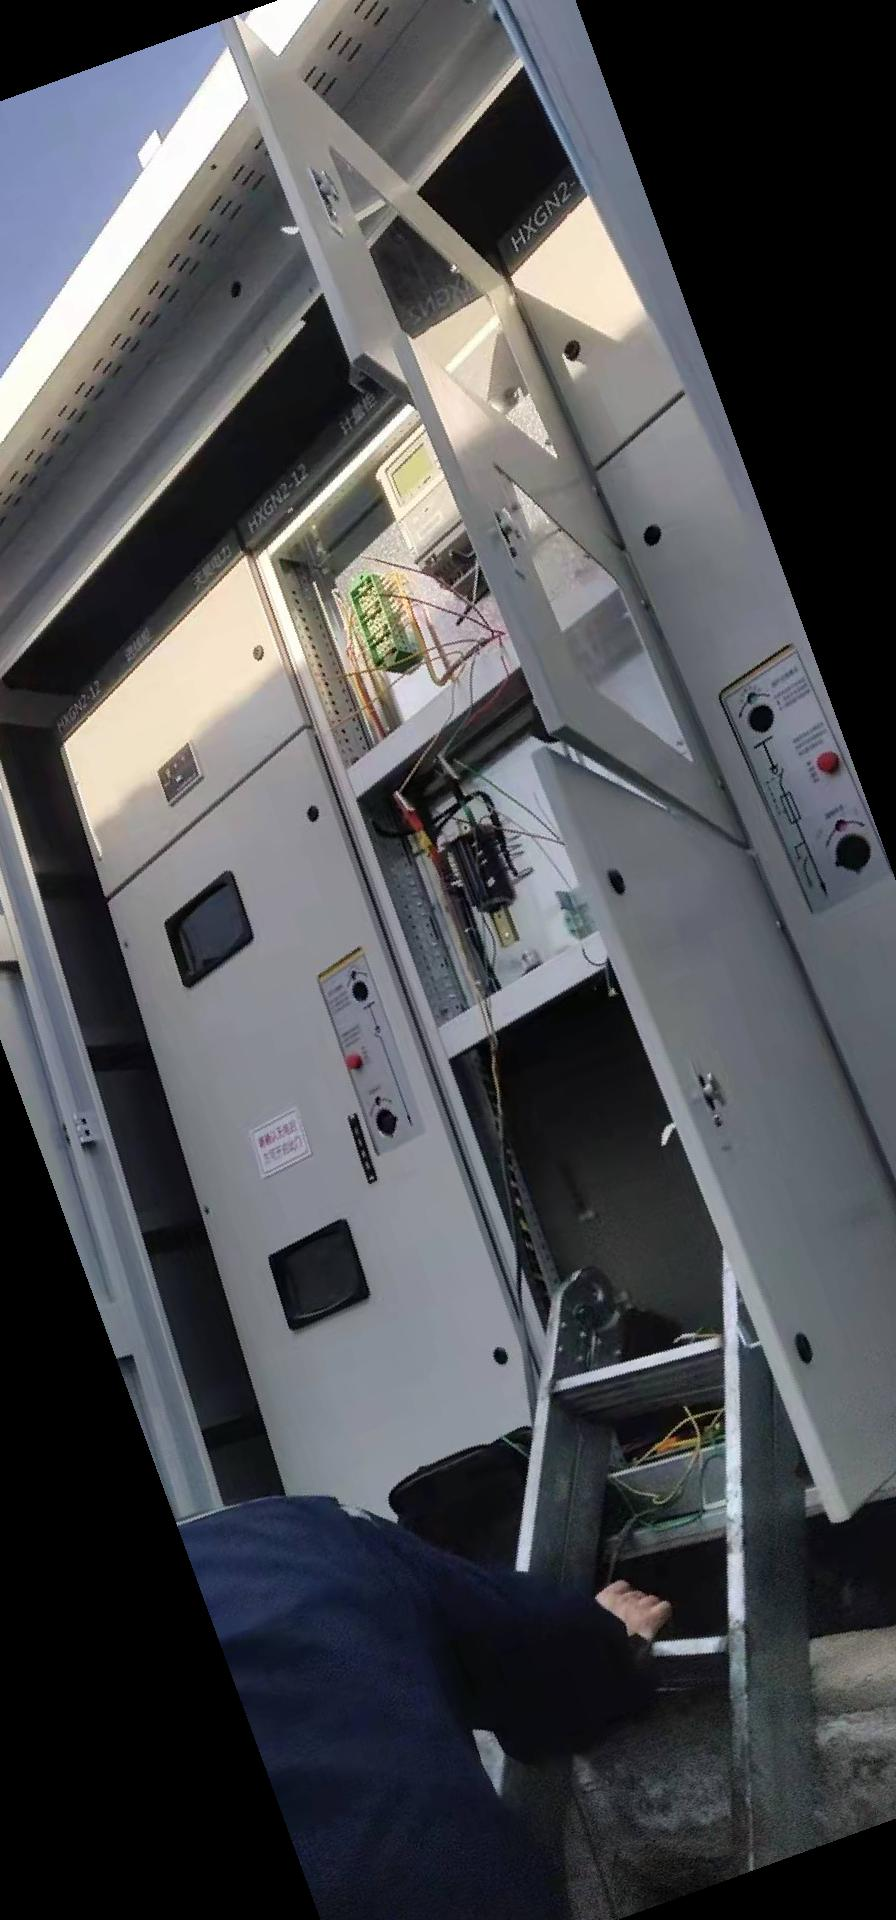digital: (375, 422, 468, 571)
